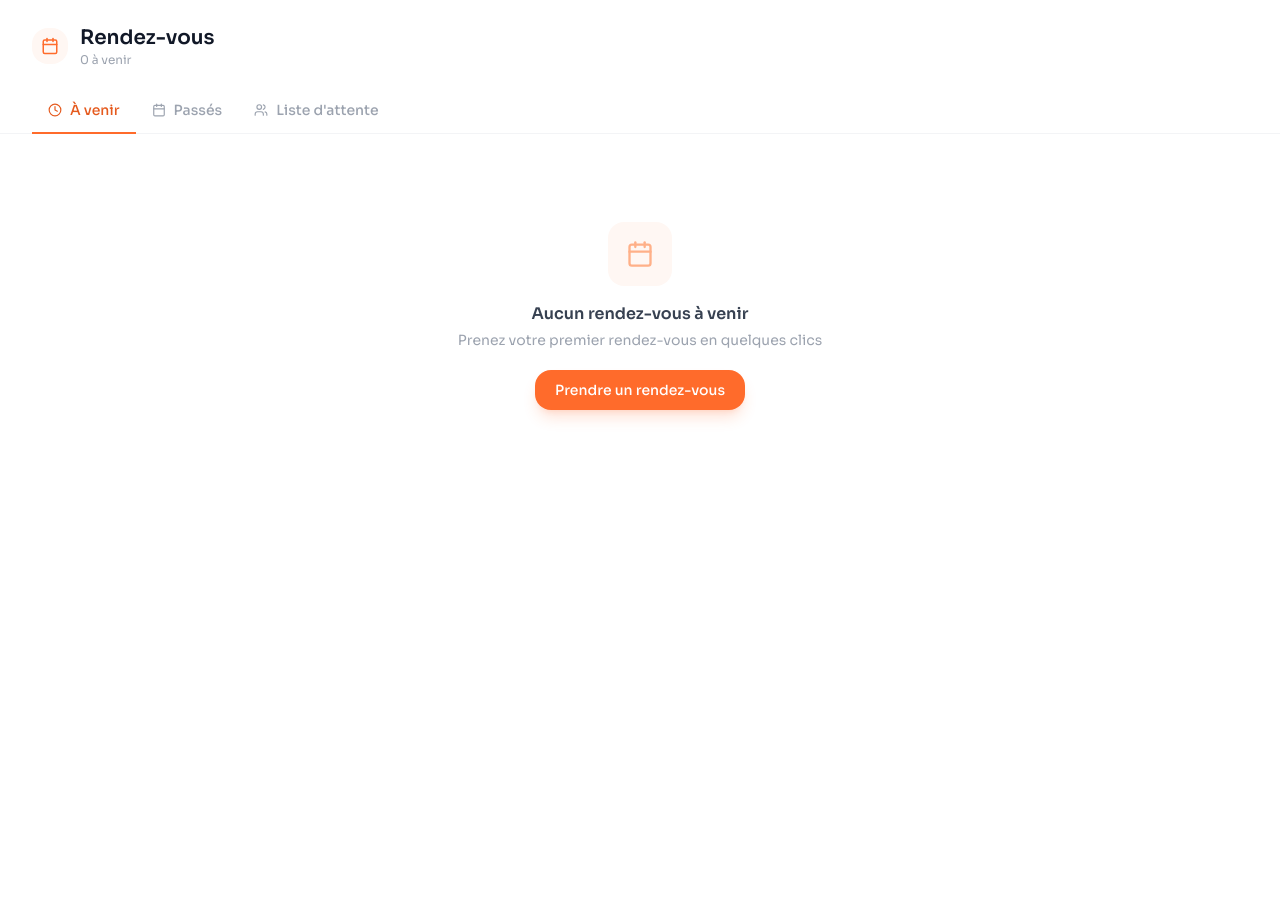
Test: AppointmentsPage › désactive la confirmation lorsqu'un créneau est déjà réservé
Click the button "Prendre un rendez-vous".
click(640, 390)  # box [535,370,745,410]
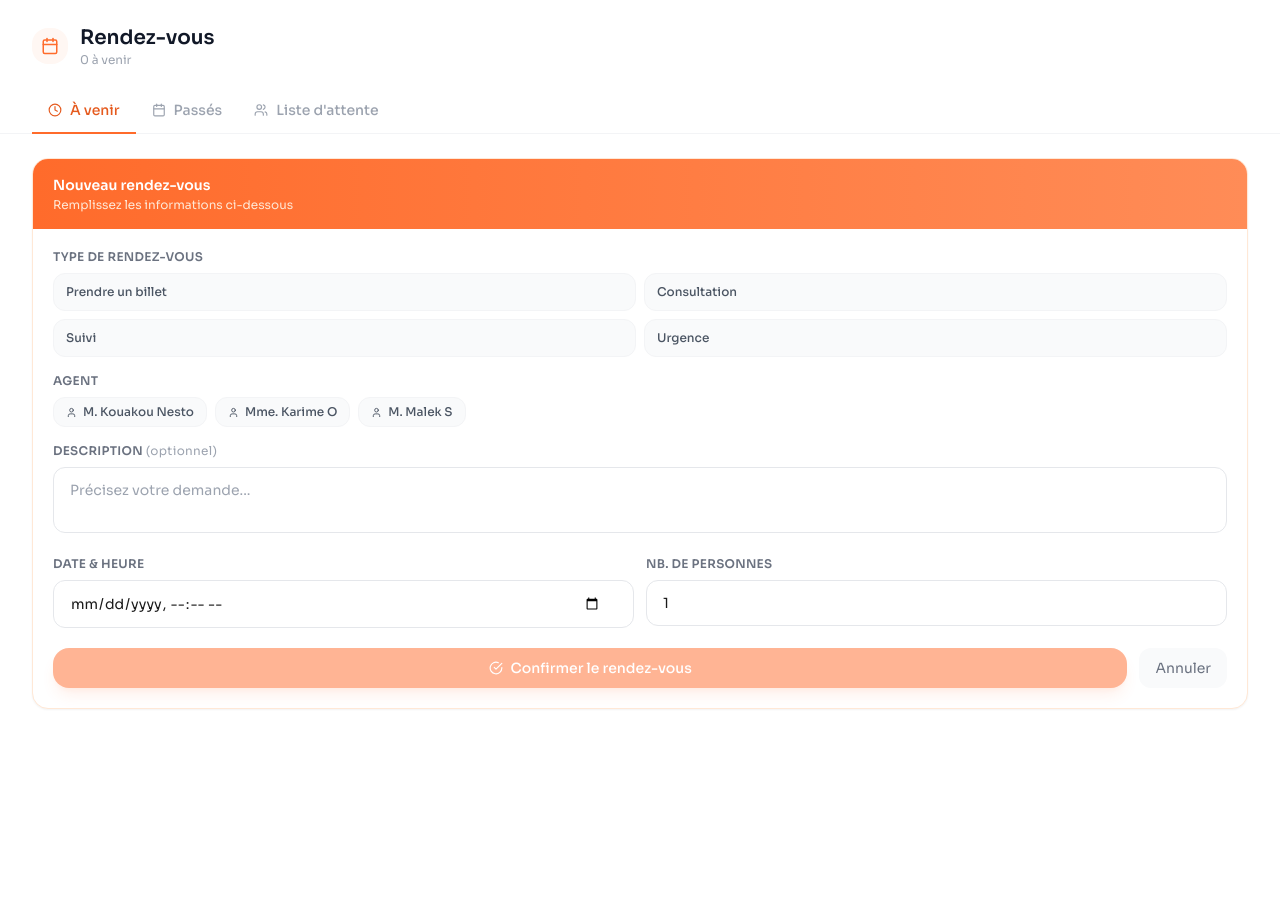
Click the button "Consultation".
click(697, 292)  # box [644,273,1227,311]
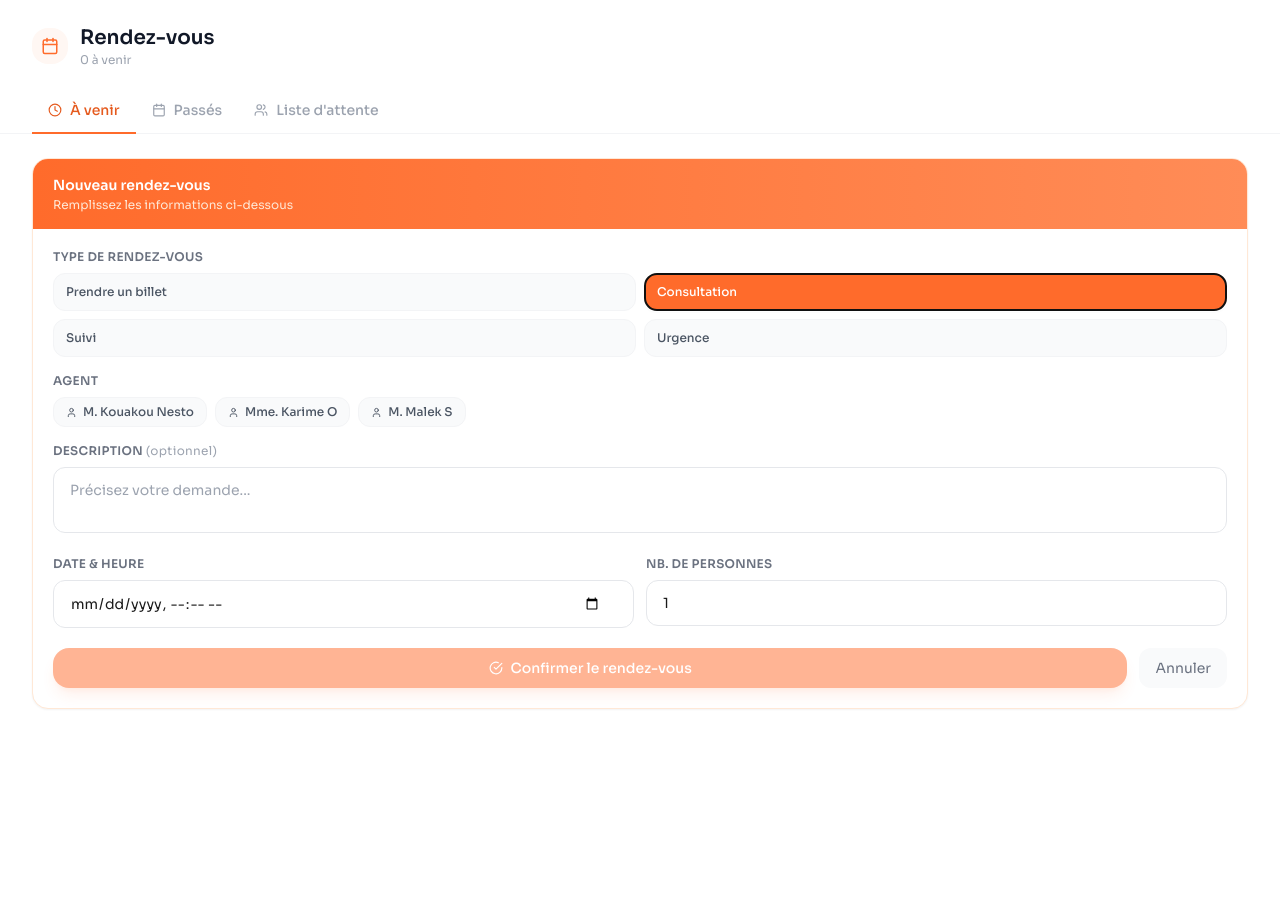
Click the button "M. Kouakou Nesto".
click(130, 412)  # box [53,397,207,427]
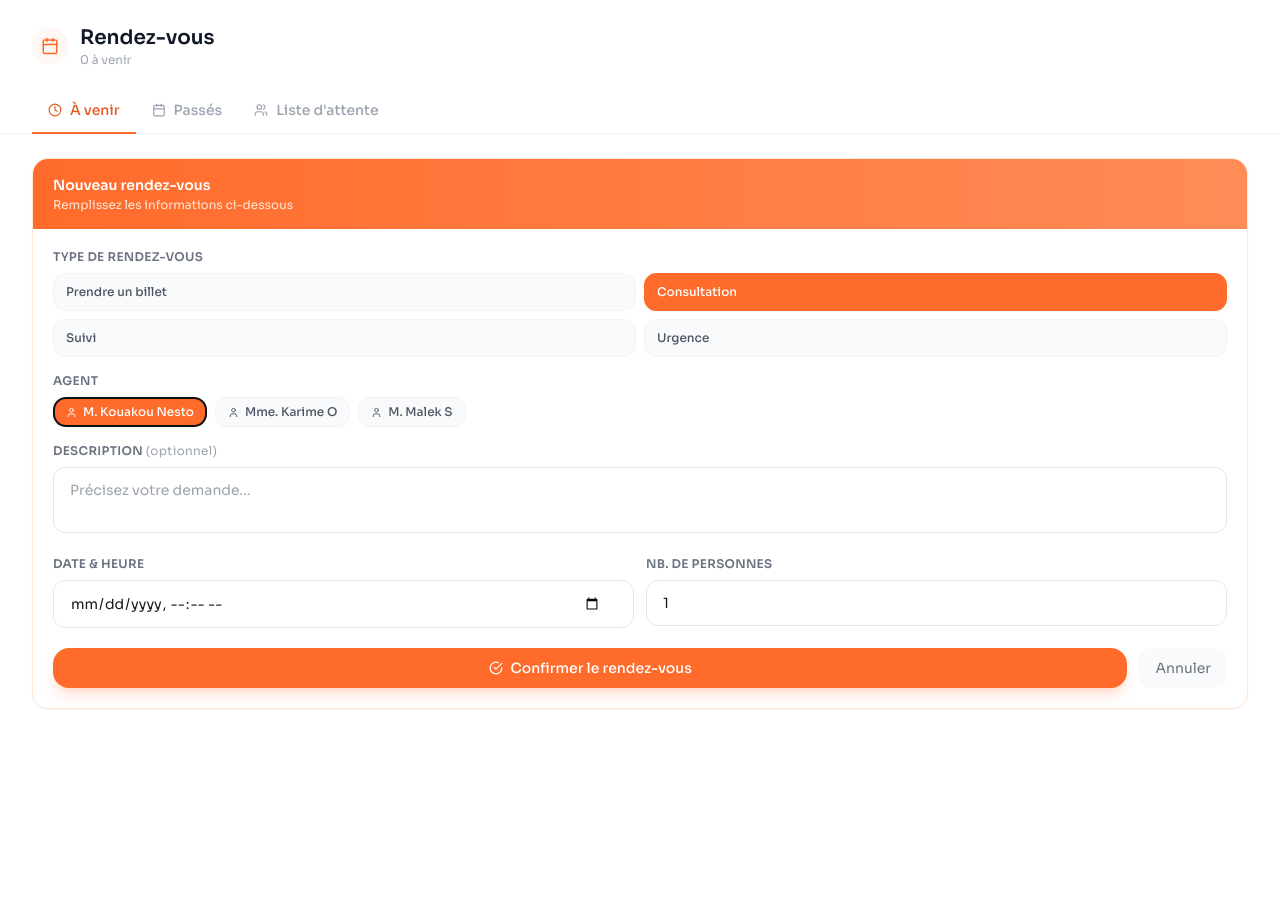
Type "2030-01-15T10:30" into the field.
click(344, 604); type("2030-01-15T10:30")  # box [53,580,634,628]
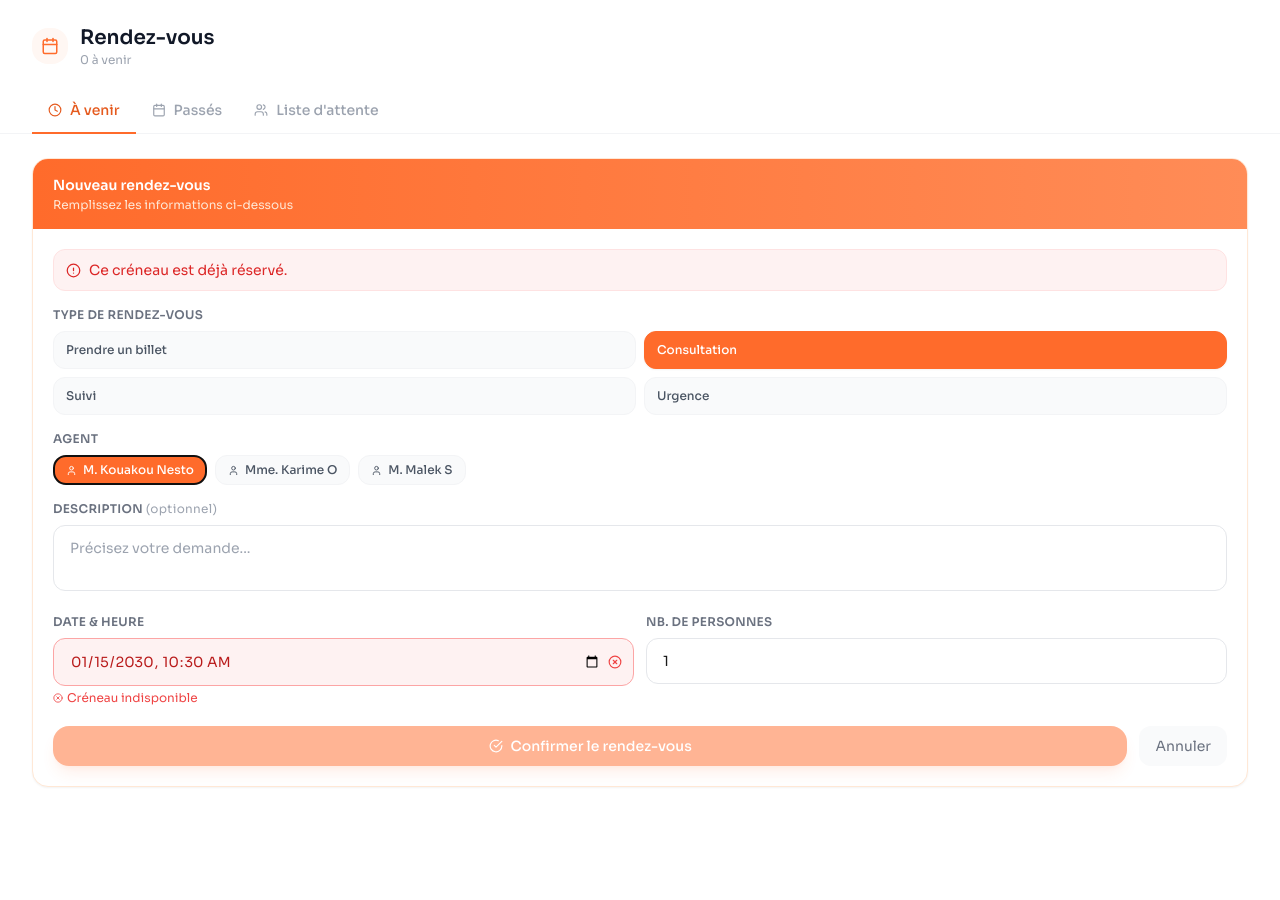
Expected: the text "Ce créneau est déjà réservé." is shown, [53,249,1227,291]
Expected: the button "Confirmer le rendez-vous" is disabled, [53,726,1127,766]
